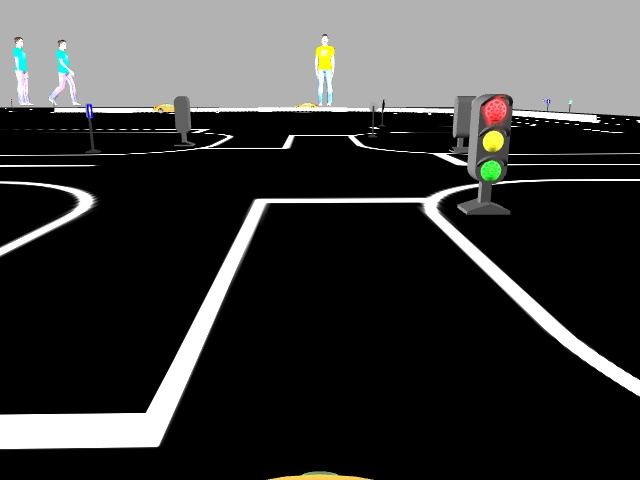TrafficLight: (469, 90, 511, 183)
